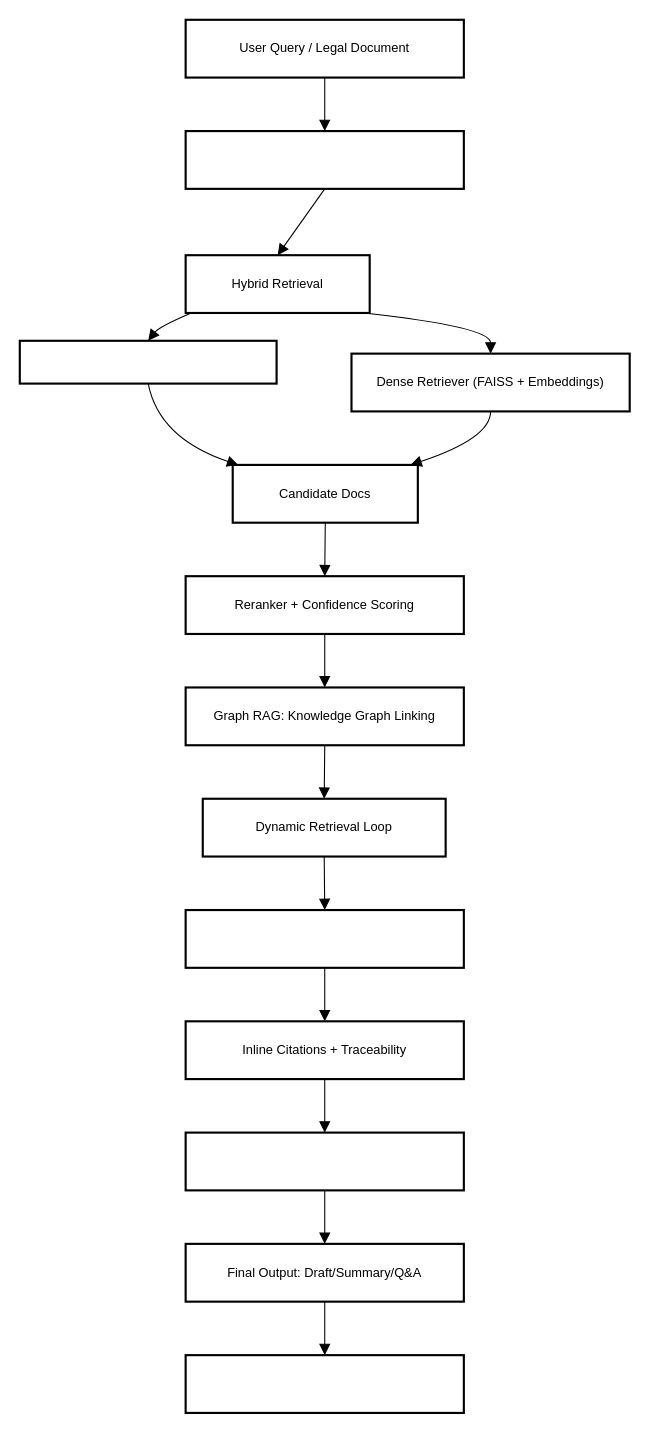
Image size: 648x1432. Some labels were removed from this diagram. Each missing label, with the centre of its shape:
"Audit Logs + Human-in-the-loop Verification" belongs at (x=324, y=1383).
"Corrective Layer: Consistency + Hallucination Check" belongs at (x=324, y=1161).
"Generator: LoRA-fine-tuned LLaMA Legal Model" belongs at (x=324, y=938).
"Preprocessing: NER + Jurisdiction Detection" belongs at (x=324, y=159).
"Sparse Retriever (BM25/TF-IDF)" belongs at (x=147, y=361).
